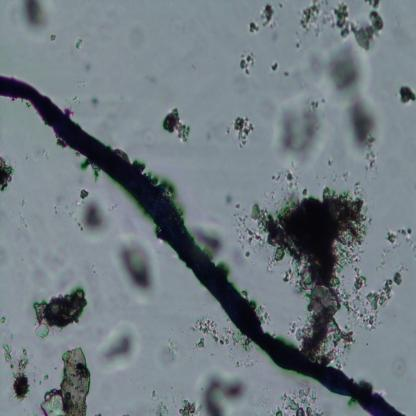Background material: (233, 193, 374, 373), (270, 37, 368, 173), (286, 0, 388, 45), (358, 256, 408, 333), (39, 346, 93, 416), (345, 94, 386, 180), (115, 224, 161, 295), (92, 318, 145, 374), (32, 283, 84, 334), (198, 360, 242, 412), (3, 343, 34, 405), (73, 184, 105, 238), (214, 318, 249, 364), (271, 385, 317, 416), (247, 0, 284, 35), (189, 316, 220, 356), (231, 110, 260, 147), (162, 106, 190, 144), (23, 1, 50, 32), (170, 392, 201, 416), (0, 151, 16, 196), (198, 219, 223, 246), (384, 226, 413, 249), (162, 335, 180, 371), (23, 145, 52, 163), (241, 46, 257, 76), (149, 398, 167, 416), (141, 130, 156, 148), (16, 214, 30, 231), (50, 198, 62, 216), (403, 89, 416, 104), (80, 59, 92, 72), (394, 362, 406, 375), (224, 193, 235, 207), (74, 36, 83, 50), (91, 96, 101, 106), (0, 314, 7, 326), (150, 388, 158, 398), (74, 95, 80, 103), (20, 199, 26, 207), (48, 34, 56, 40)
Cotton: (0, 76, 403, 416)
